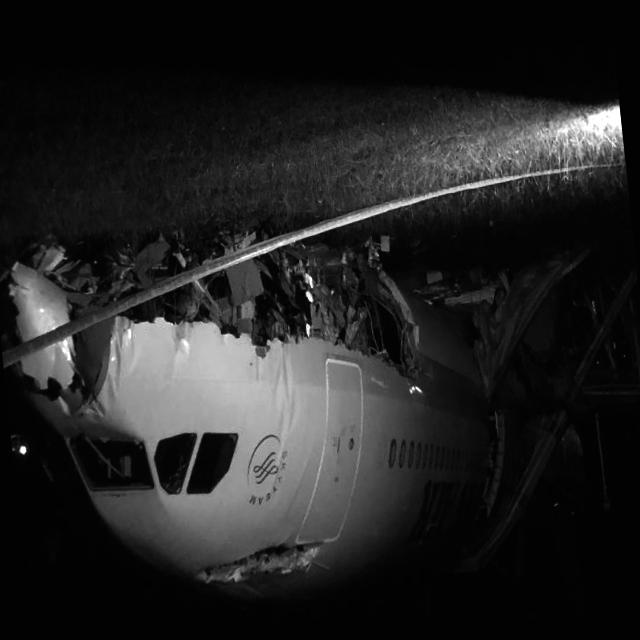crack: (196, 528, 328, 583)
